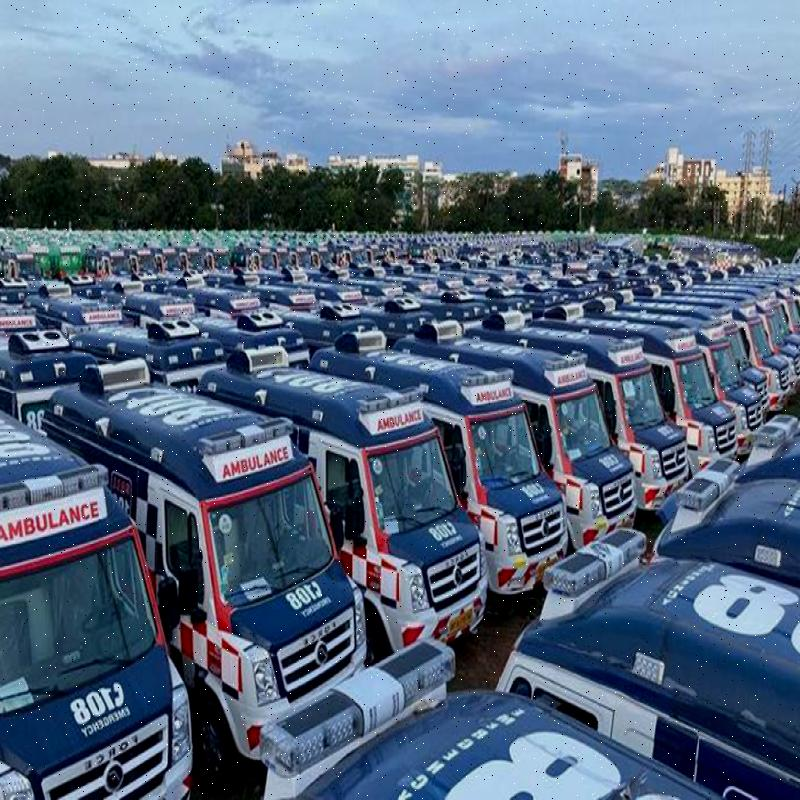ambulance: (27, 372, 392, 743), (102, 361, 510, 654), (0, 396, 205, 796), (316, 317, 556, 577)
